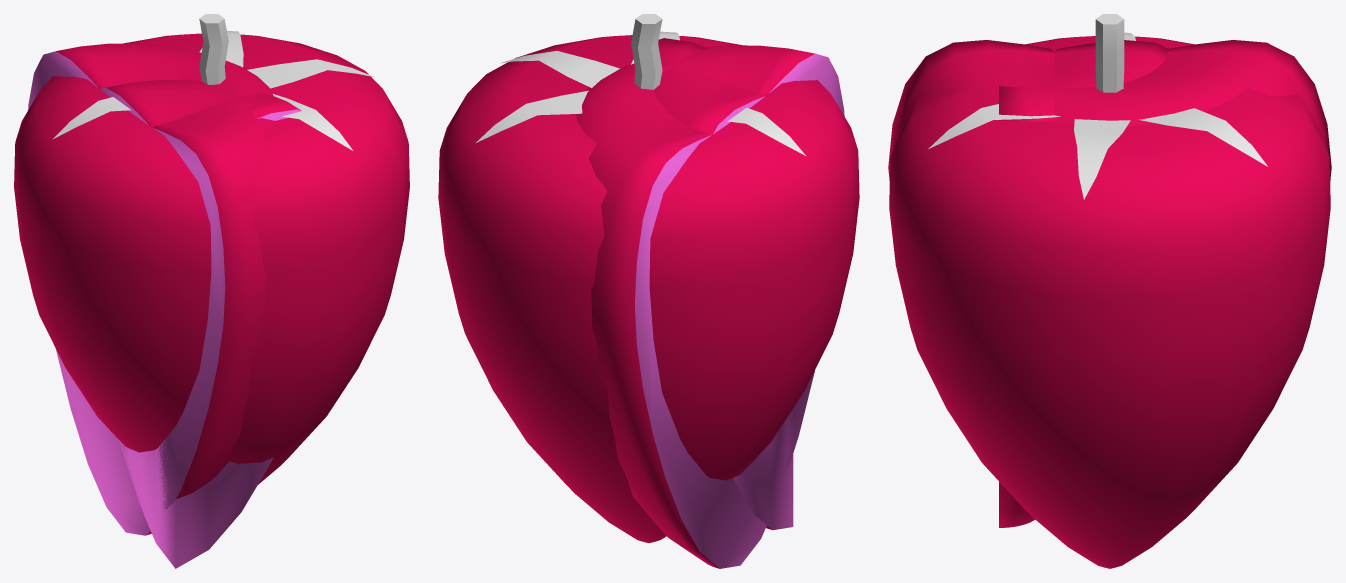
The model's file is strawberry.glb.
The picture shows the model from 3 angles, left to right: view 1: azimuth 30°, elevation 25°; view 2: azimuth 150°, elevation 25°; view 3: azimuth 270°, elevation 25°; orthographic projection. The views are drawn at different scales.
Parts seen in each view (by area): view 1: StrawberryWholeFruit, StrawberryHalf, StrawberryQuarter, StrawberryWholeLeaves; view 2: StrawberryWholeFruit, StrawberryHalf, StrawberryQuarter, StrawberryWholeLeaves; view 3: StrawberryWholeFruit, StrawberryHalf, StrawberryWholeLeaves, StrawberryQuarter.
Boxes of the visible parts, x1,y1,x2,y2 form: StrawberryWholeFruit: [14, 33, 409, 484]; StrawberryHalf: [28, 43, 276, 535]; StrawberryQuarter: [100, 79, 301, 568]; StrawberryWholeLeaves: [52, 14, 374, 150]; StrawberryWholeFruit: [438, 35, 859, 543]; StrawberryHalf: [576, 45, 844, 568]; StrawberryQuarter: [654, 38, 793, 530]; StrawberryWholeLeaves: [476, 14, 805, 155]; StrawberryWholeFruit: [889, 36, 1330, 568]; StrawberryHalf: [888, 40, 1331, 182]; StrawberryWholeLeaves: [928, 14, 1267, 199]; StrawberryQuarter: [999, 40, 1168, 527].
Size of the model in its own units: 0.249 by 0.342 by 0.25.
